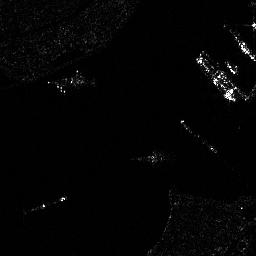ship: (192, 54, 238, 102)
